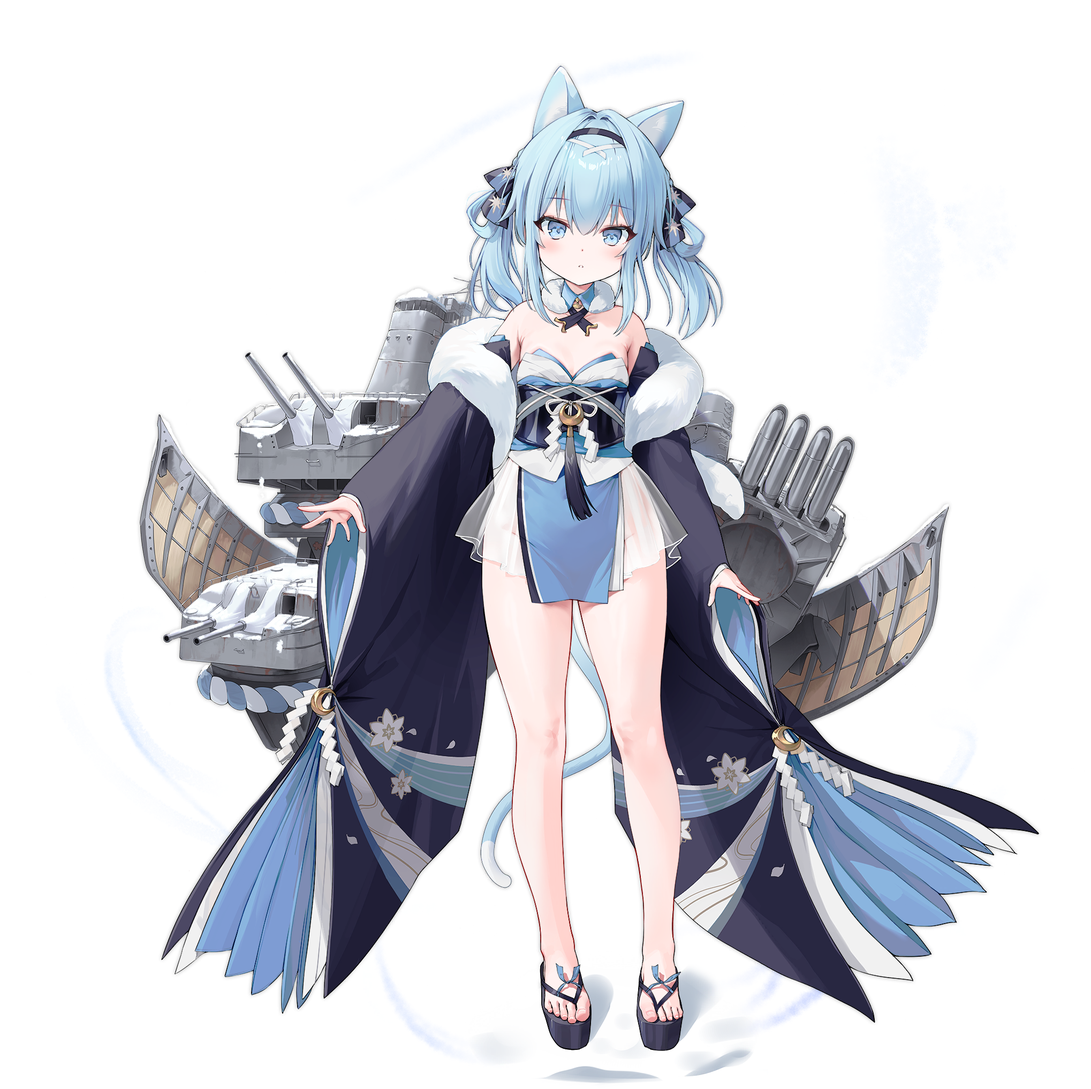person: (213, 16, 873, 1087)
